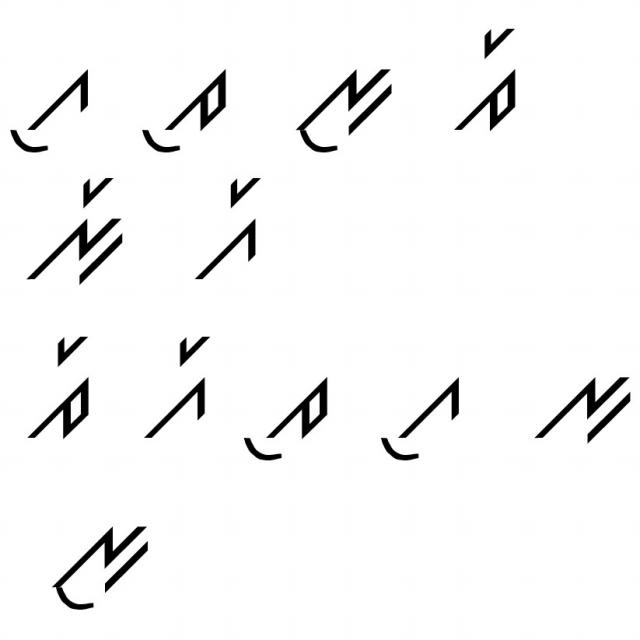gar: (127, 331, 217, 444), (191, 172, 273, 284)
gaw: (3, 46, 97, 157), (372, 372, 468, 472)
nga: (526, 367, 633, 446)
ngar: (21, 175, 134, 293)
ngaw: (286, 61, 396, 165), (42, 522, 157, 616)
tar: (451, 20, 526, 140), (21, 331, 100, 444)
taw: (130, 57, 236, 165), (234, 359, 334, 470)
